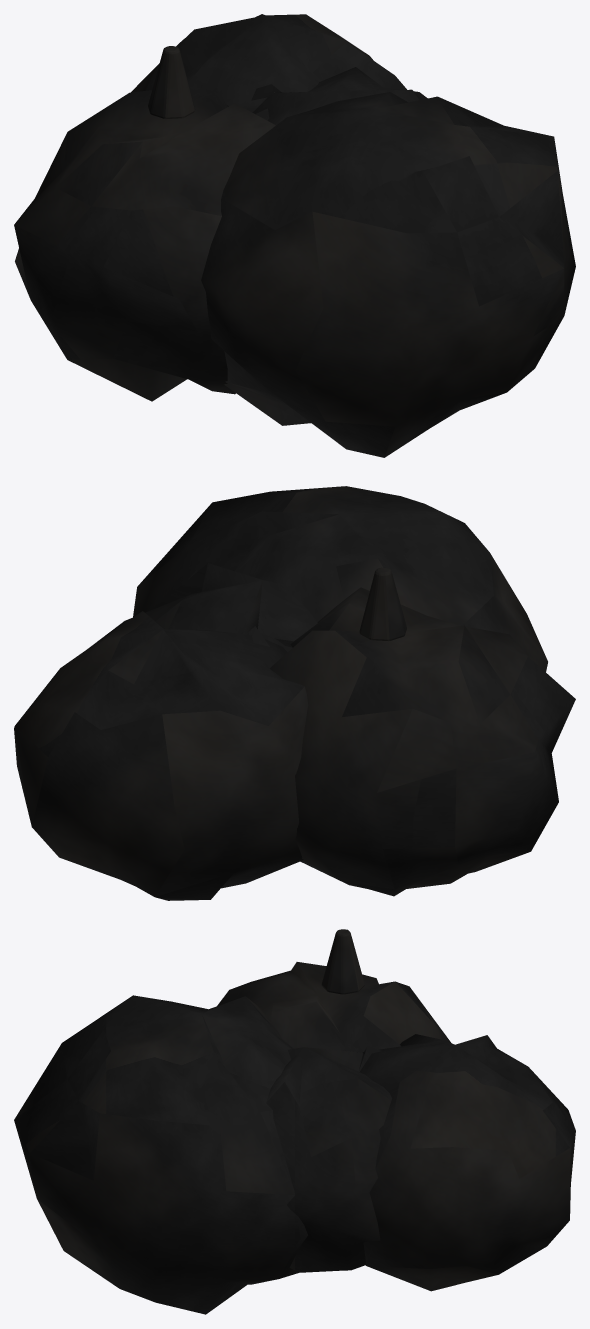
Rendered from D06_trash_bag_pile_v1.glb.
3 views of the same model, one above another, from view 1: azimuth 30°, elevation 25°; view 2: azimuth 150°, elevation 25°; view 3: azimuth 270°, elevation 25° (orthographic). The views are drawn at different scales.
Visible parts, largest first — view 1: D06_trash_bag_pile_v1; view 2: D06_trash_bag_pile_v1; view 3: D06_trash_bag_pile_v1.
Boxes of the visible parts, x1,y1,x2,y2 form: D06_trash_bag_pile_v1: (14, 14, 575, 457); D06_trash_bag_pile_v1: (14, 486, 575, 900); D06_trash_bag_pile_v1: (14, 929, 575, 1314).
Size of the model in its own units: 0.6793 by 0.4682 by 0.8.
1 material, 1 textured.
